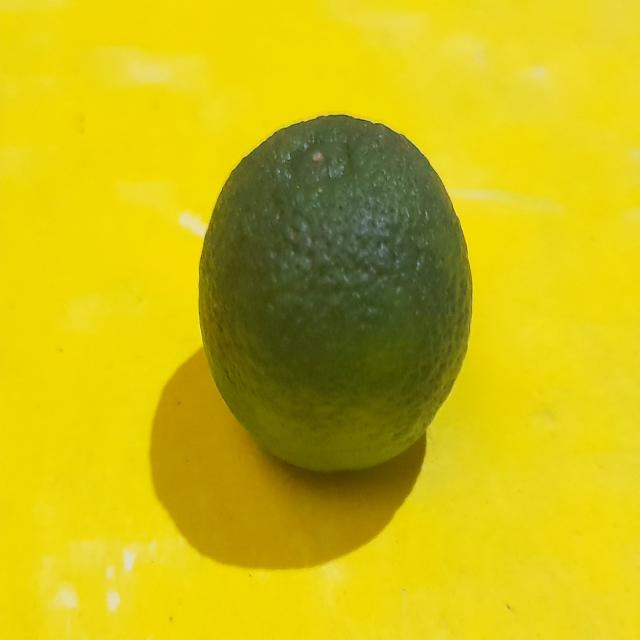heathy: (194, 104, 472, 478)
